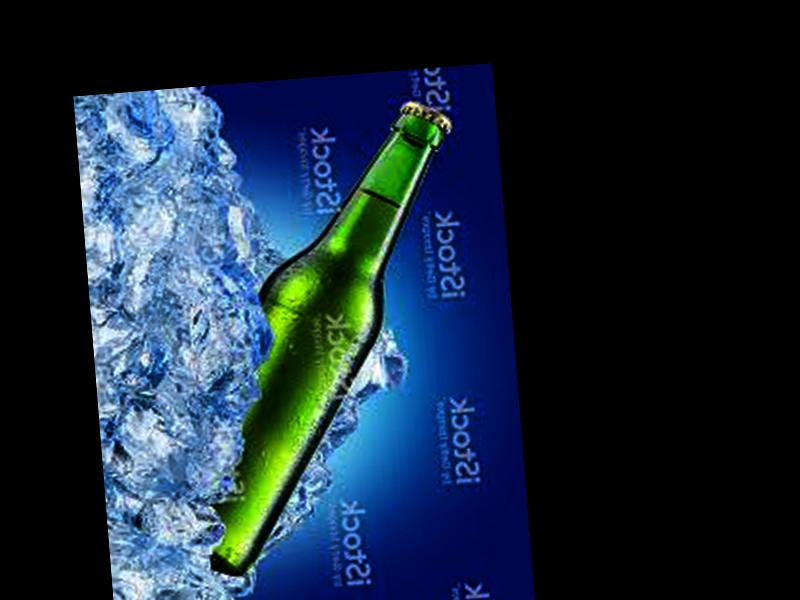Beer: (174, 93, 488, 579)
